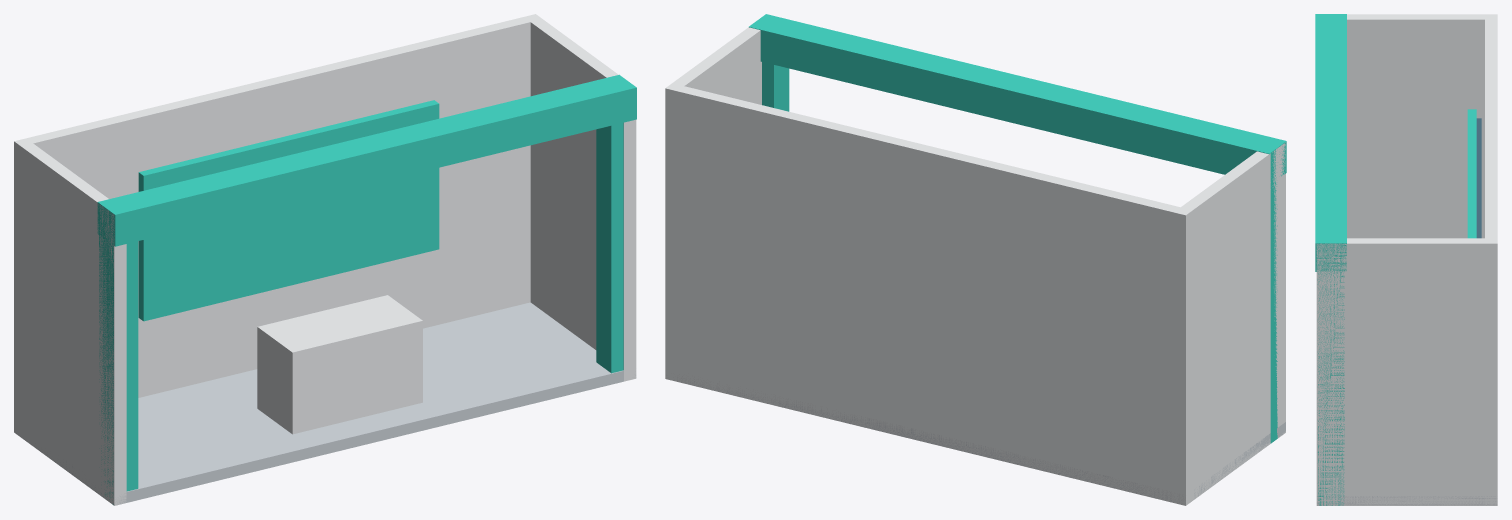
3 views of the same model, side by side, from view 1: azimuth 30°, elevation 25°; view 2: azimuth 150°, elevation 25°; view 3: azimuth 270°, elevation 25° (orthographic). The views are drawn at different scales.
Visible parts, largest first — view 1: Exhibition Booth Concept; view 2: Exhibition Booth Concept; view 3: Exhibition Booth Concept.
Part boxes in pixels (x1,y1,x2,y2): Exhibition Booth Concept: (14,14,636,505); Exhibition Booth Concept: (665,14,1286,505); Exhibition Booth Concept: (1315,14,1497,505).
Size of the model in its own units: 6 by 3.2 by 2.01.
